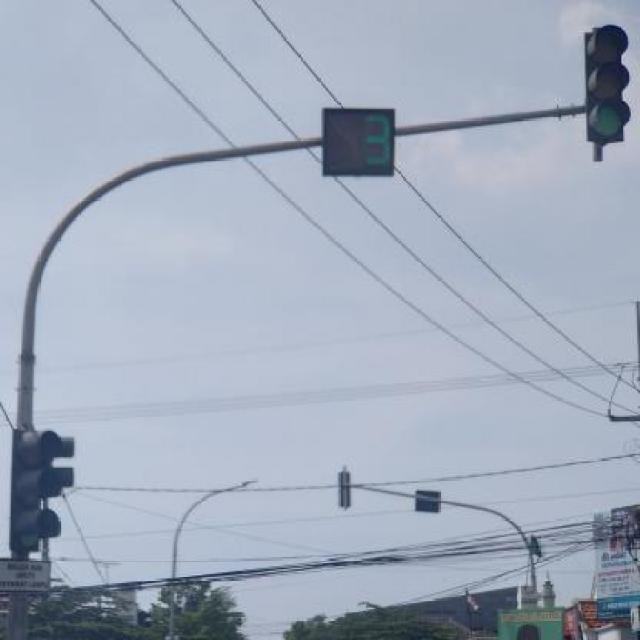traffic light: (14, 431, 60, 557), (587, 31, 628, 138)
